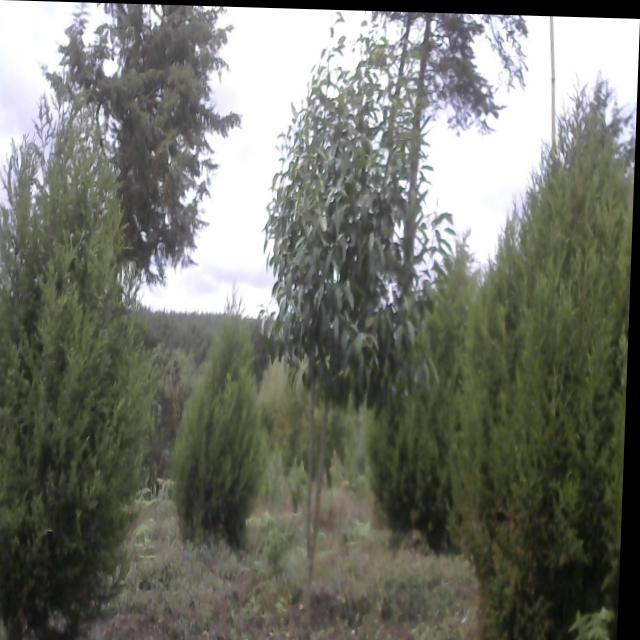Lemon Myrtle: (253, 42, 428, 589)
cedrus: (469, 61, 639, 640), (0, 77, 161, 635), (106, 3, 256, 276), (371, 247, 488, 554), (169, 306, 276, 574)
